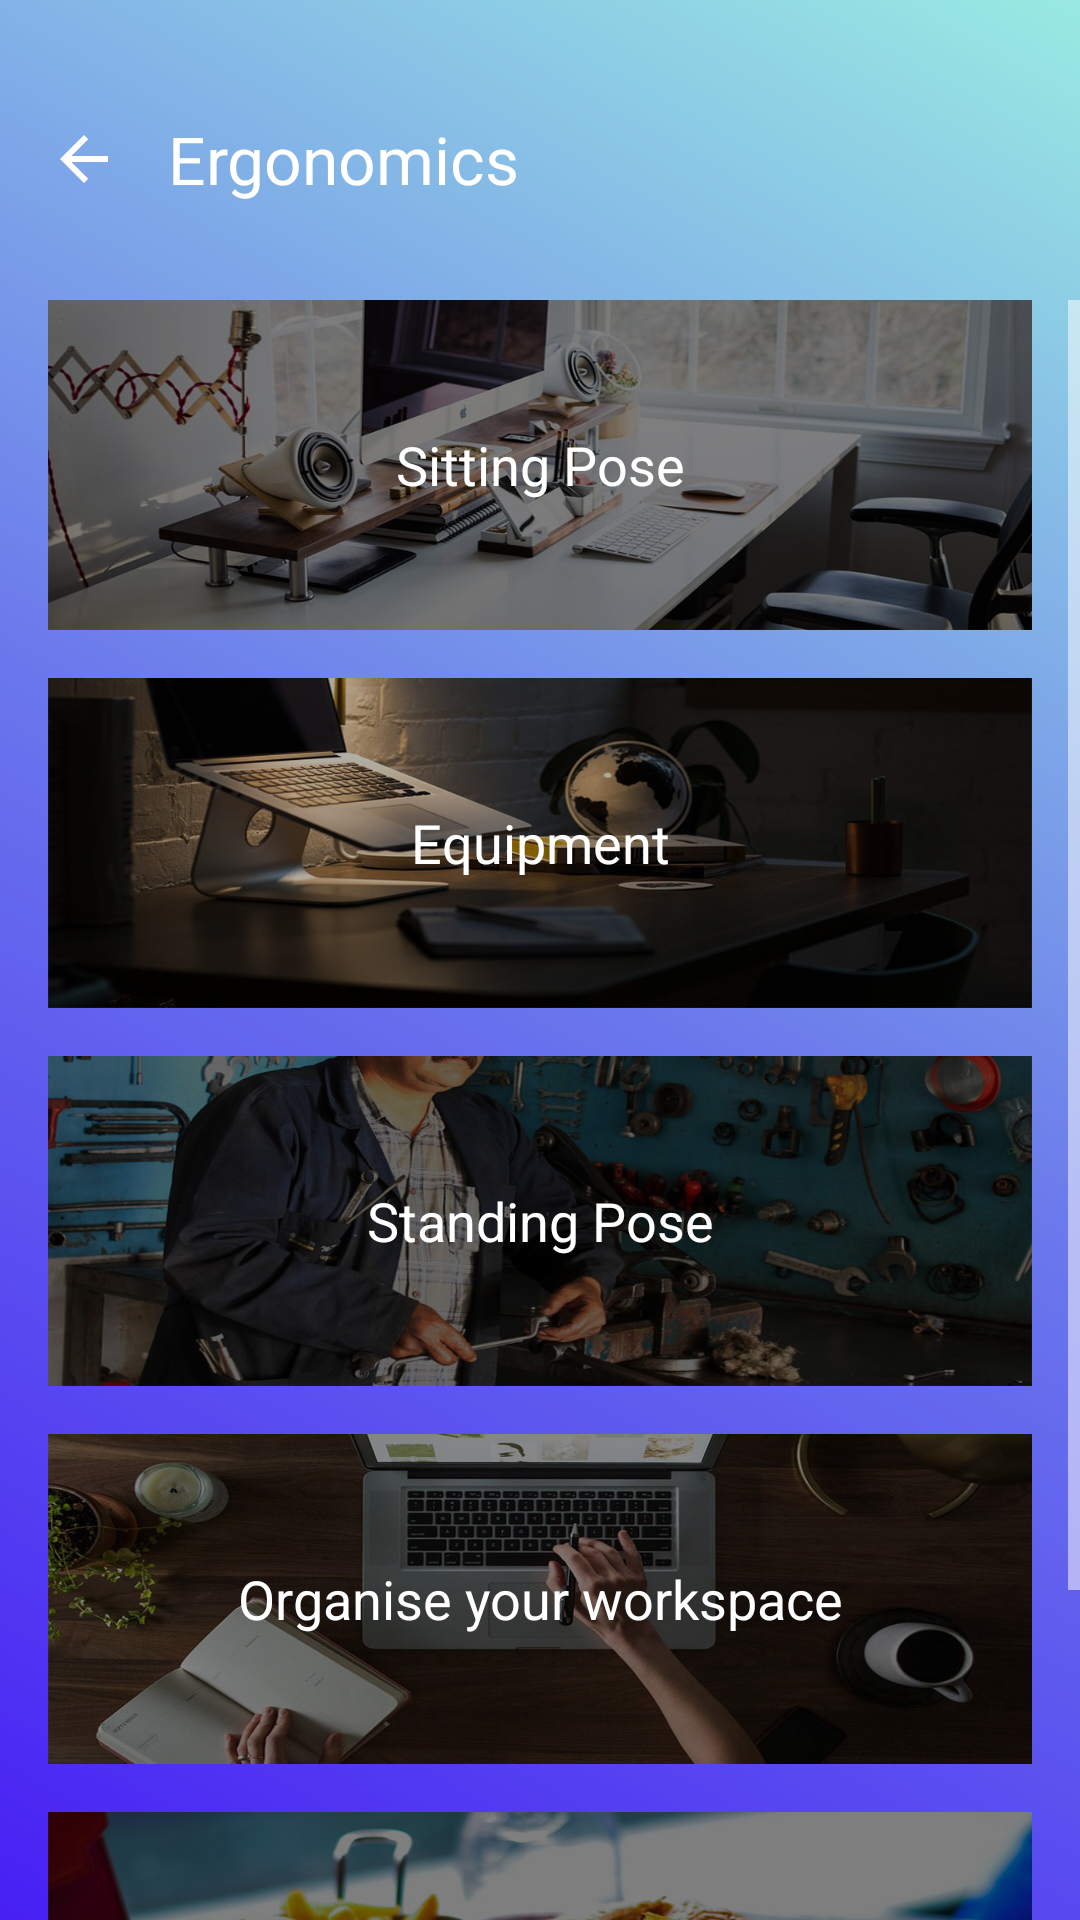

Screen size 1080 x 1920. Icon name, then its box in pixels as (left=x1, top=y1, right=x2, bottom=y2):
back to home: (left=60, top=135, right=108, bottom=183)
